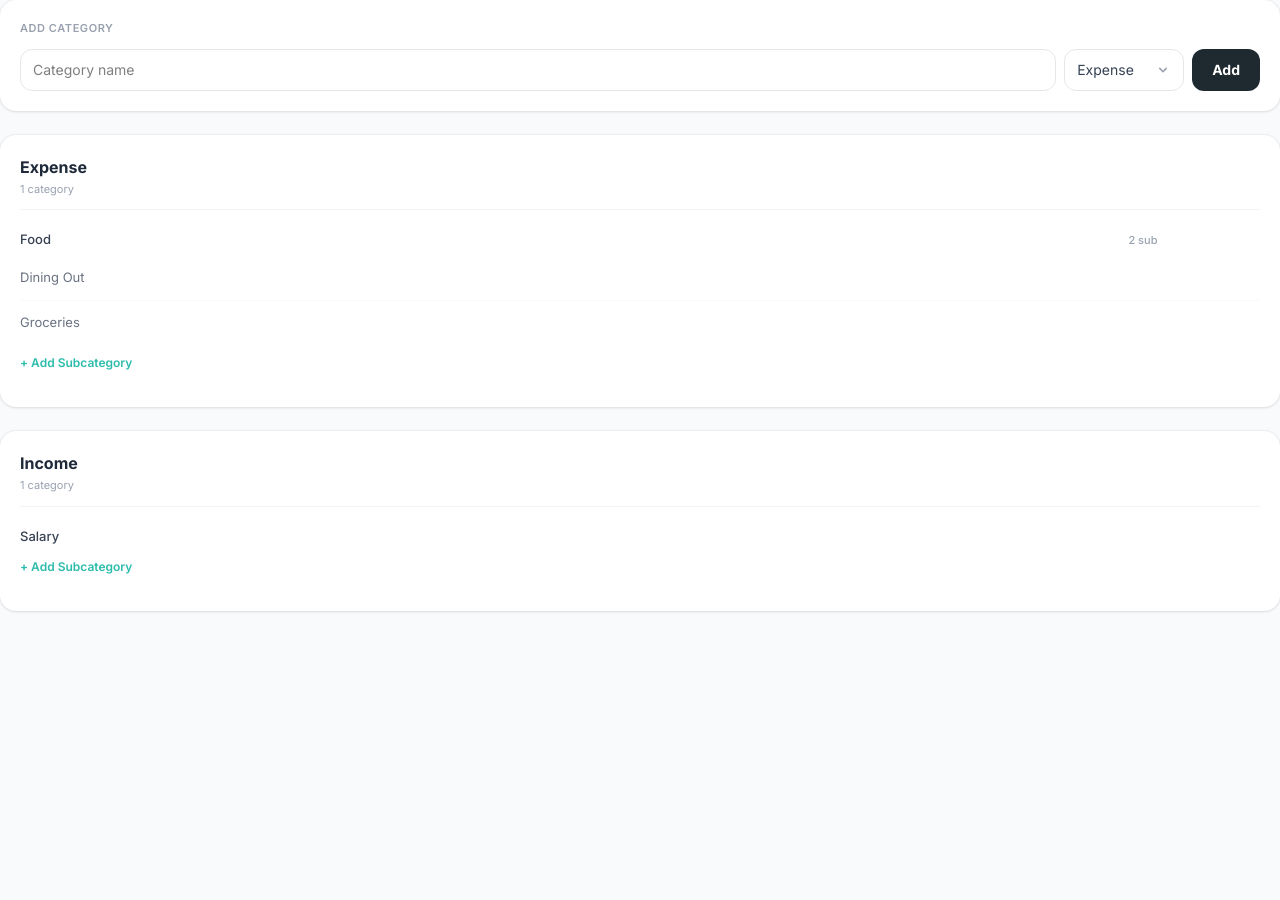
Test: CategoryManager › shows add subcategory form when clicking "+ Add Subcategory"
The image size is (1280, 900).
Click the button "+ Add Subcategory" below "Groceries" at {"x": 76, "y": 363}, box [12, 349, 140, 377]
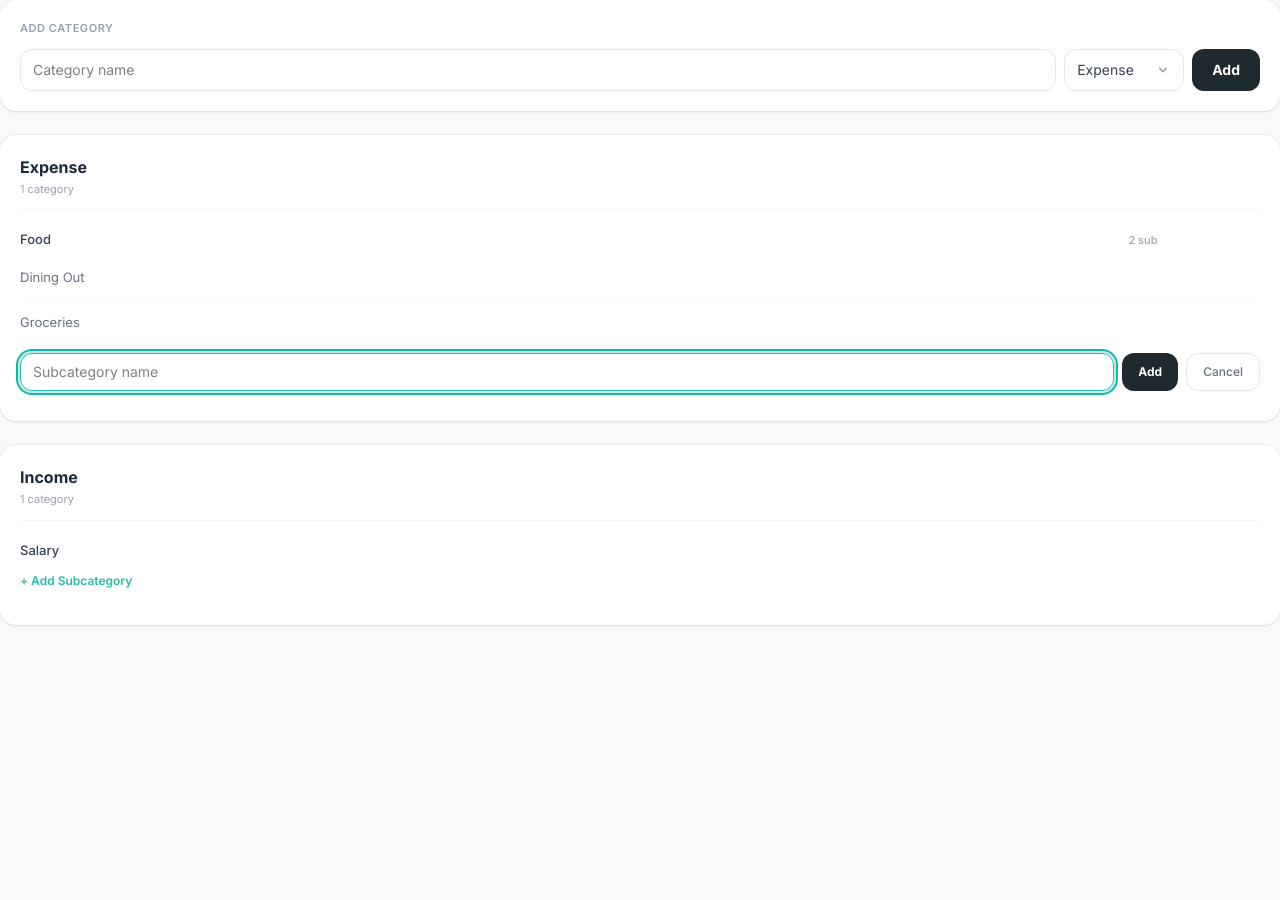
Now the field with placeholder "Subcategory name" is shown, box [20, 353, 1114, 391]
